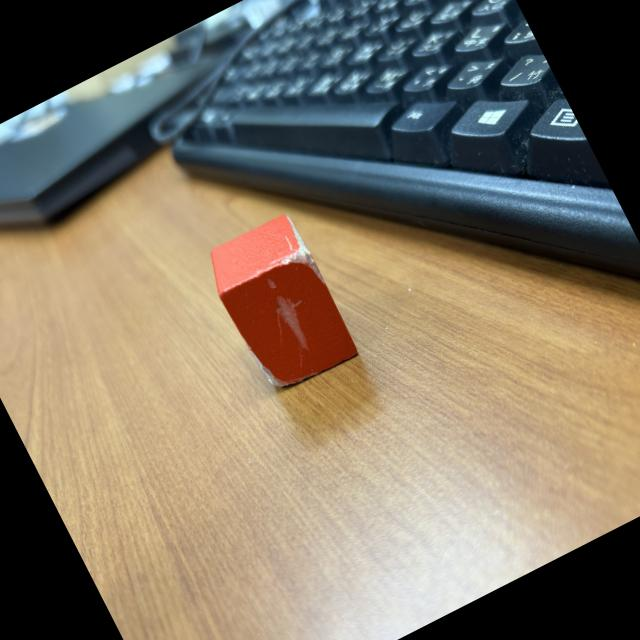broken: (200, 210, 362, 400)
